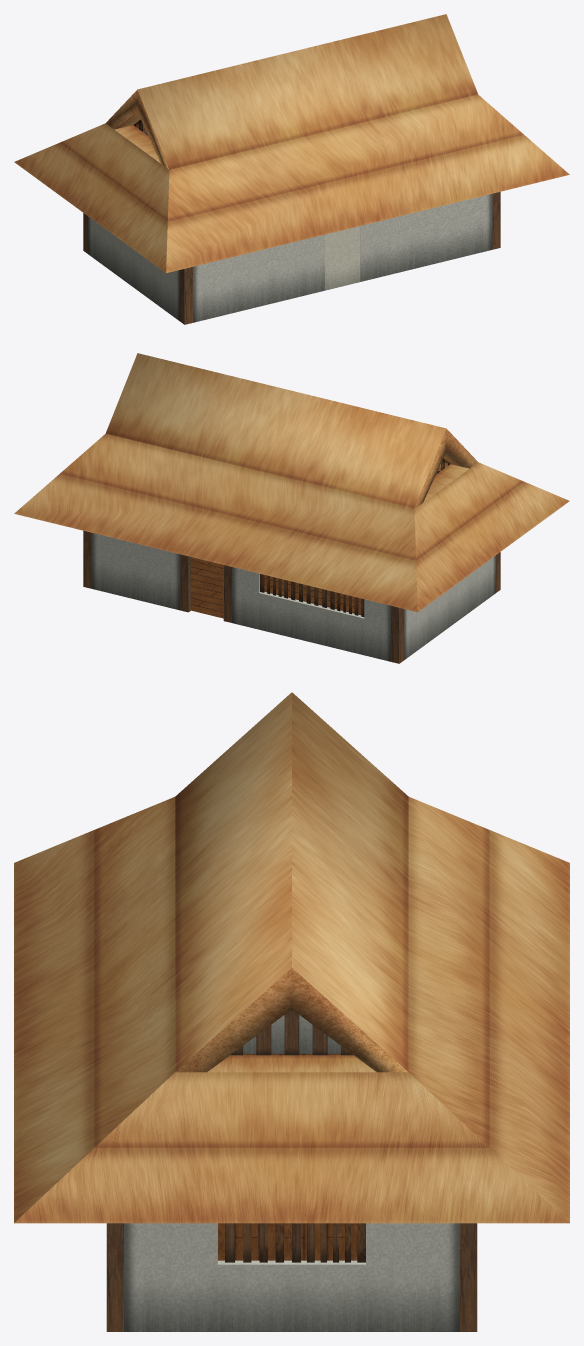
File: village_house_1.fbx
3 views of the same model, one above another, from view 1: azimuth 30°, elevation 25°; view 2: azimuth 150°, elevation 25°; view 3: azimuth 270°, elevation 25° (orthographic). The views are drawn at different scales.
Parts seen in each view (by area): view 1: roof, house; view 2: roof, house; view 3: roof, house.
Boxes of the visible parts, <box> form: roof: <box>14,14,569,273</box>; house: <box>83,132,500,324</box>; roof: <box>14,353,569,612</box>; house: <box>83,471,500,663</box>; roof: <box>14,692,569,1223</box>; house: <box>106,1015,477,1331</box>.
Bounding box in the file's own units: 1150 × 537 × 750.
